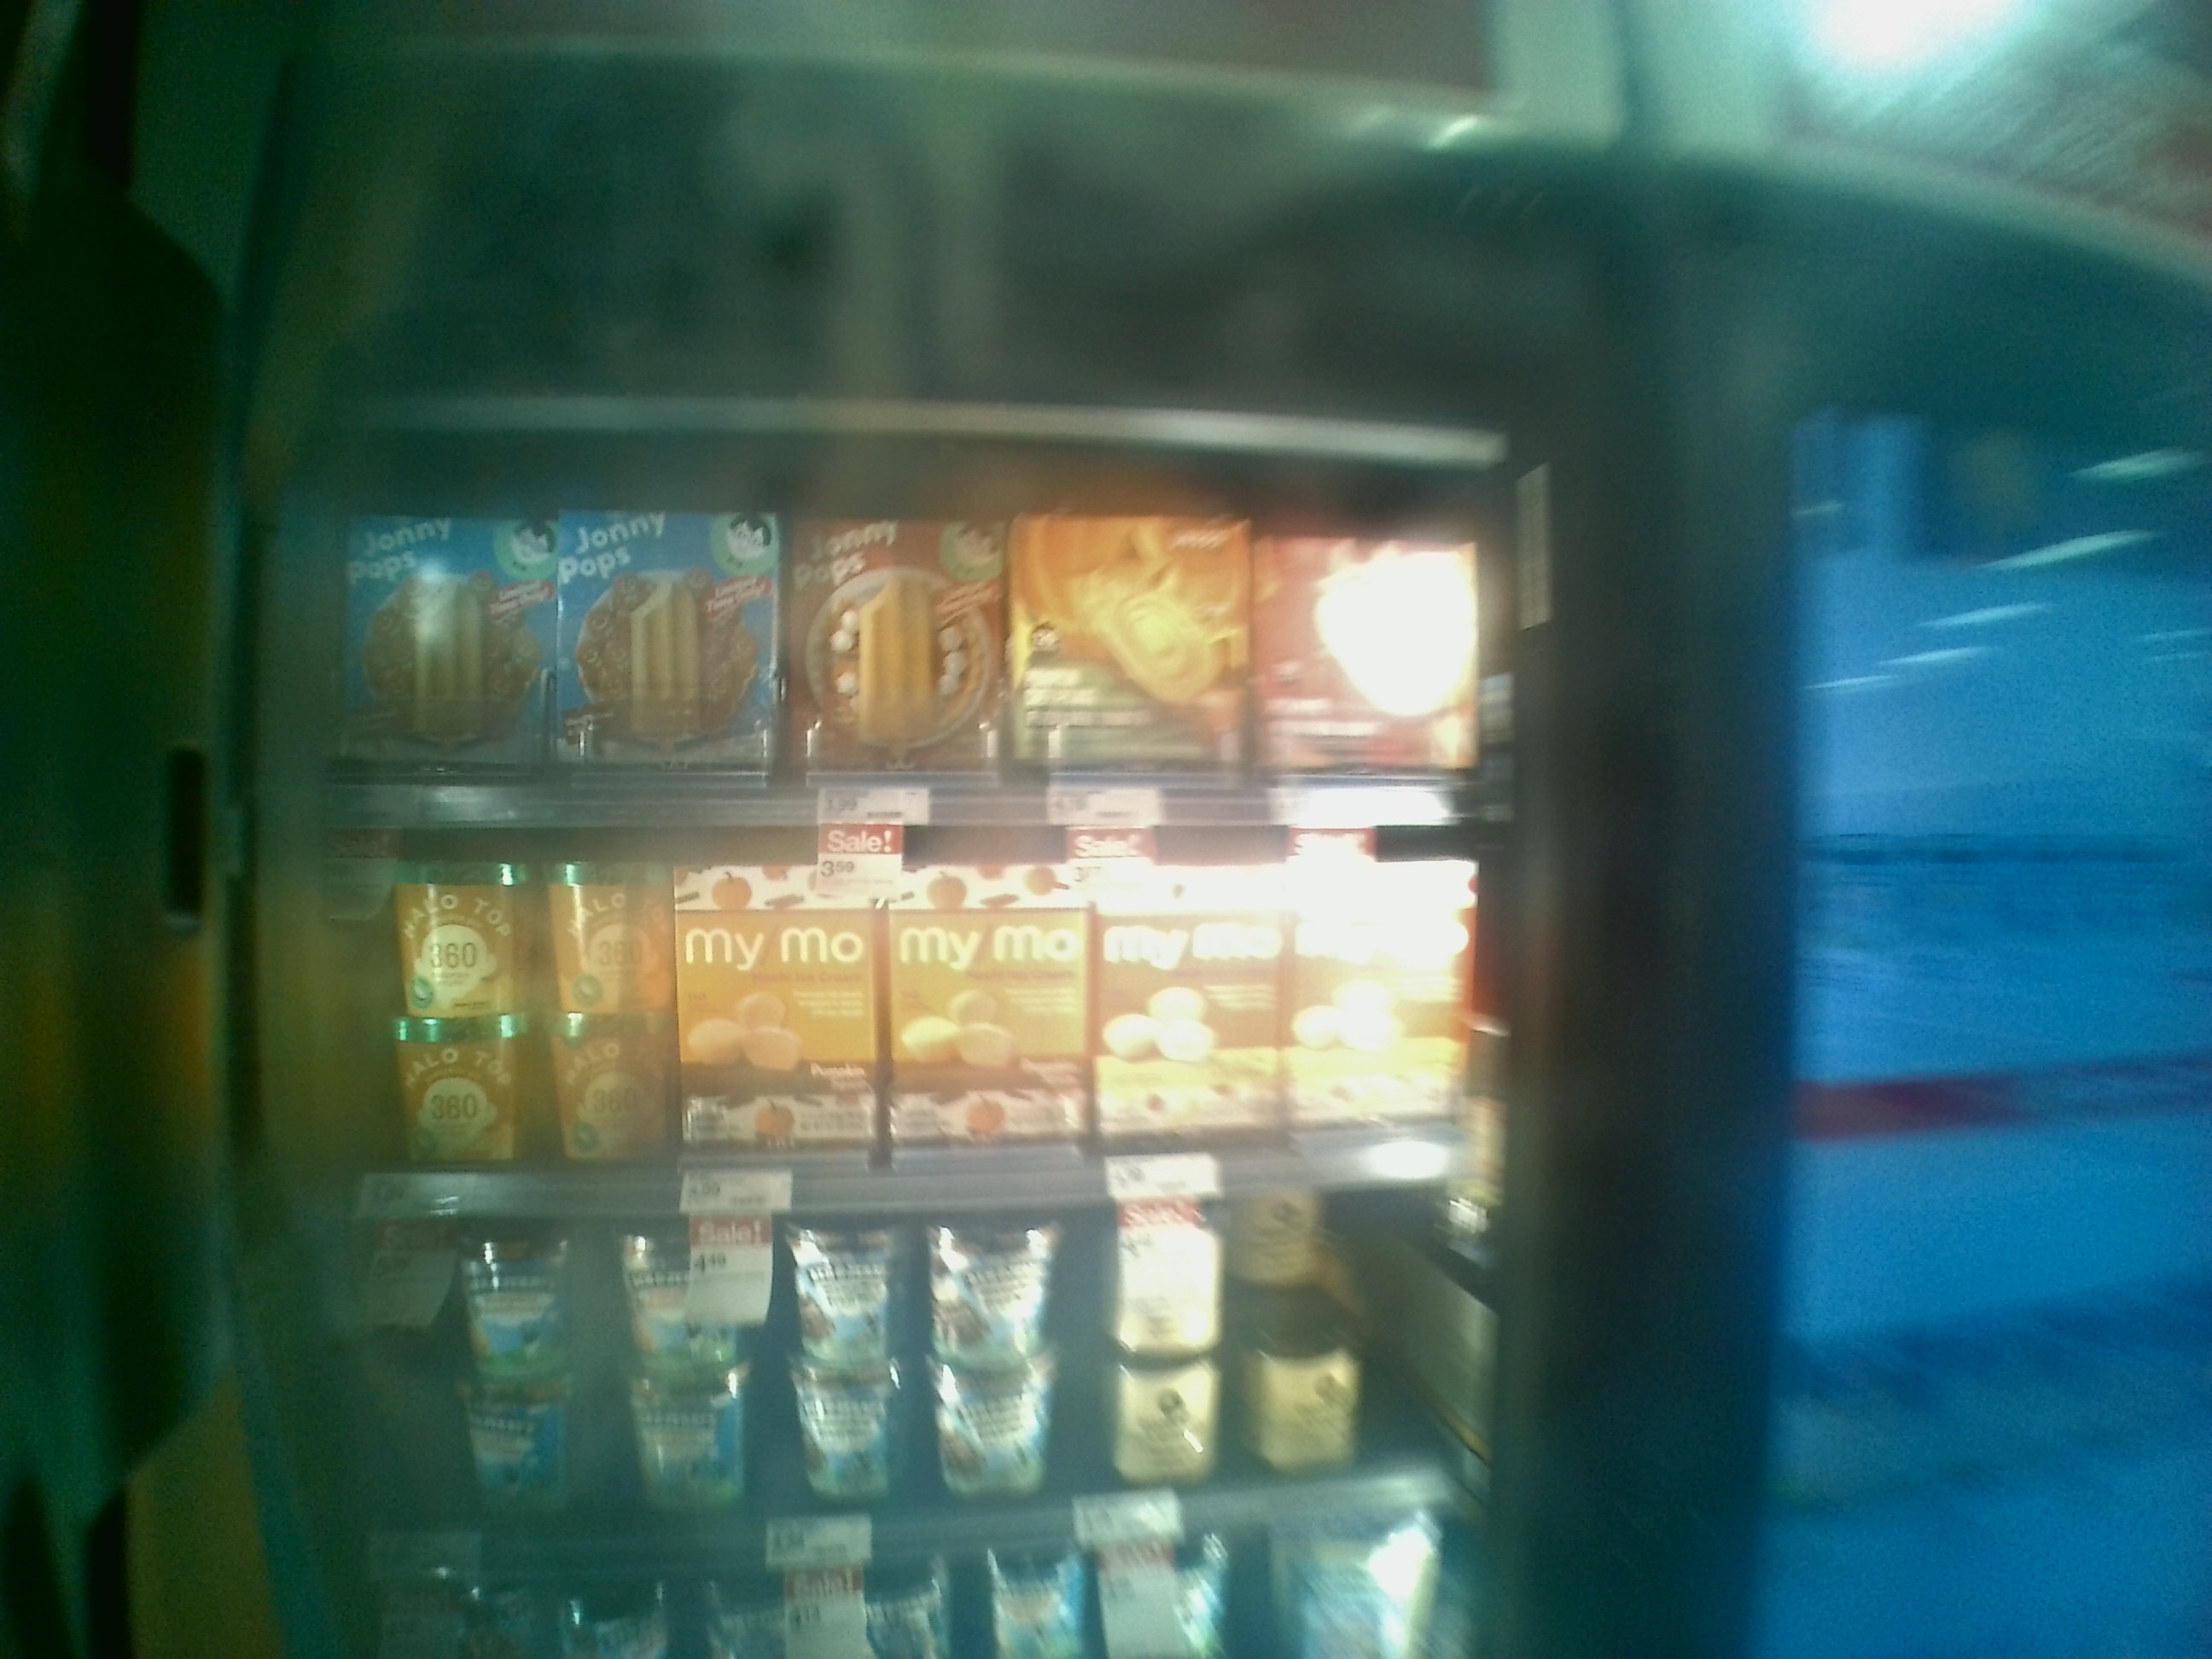shelf: (308, 437, 1527, 829), (307, 845, 1529, 1195), (294, 1197, 1527, 1521)
